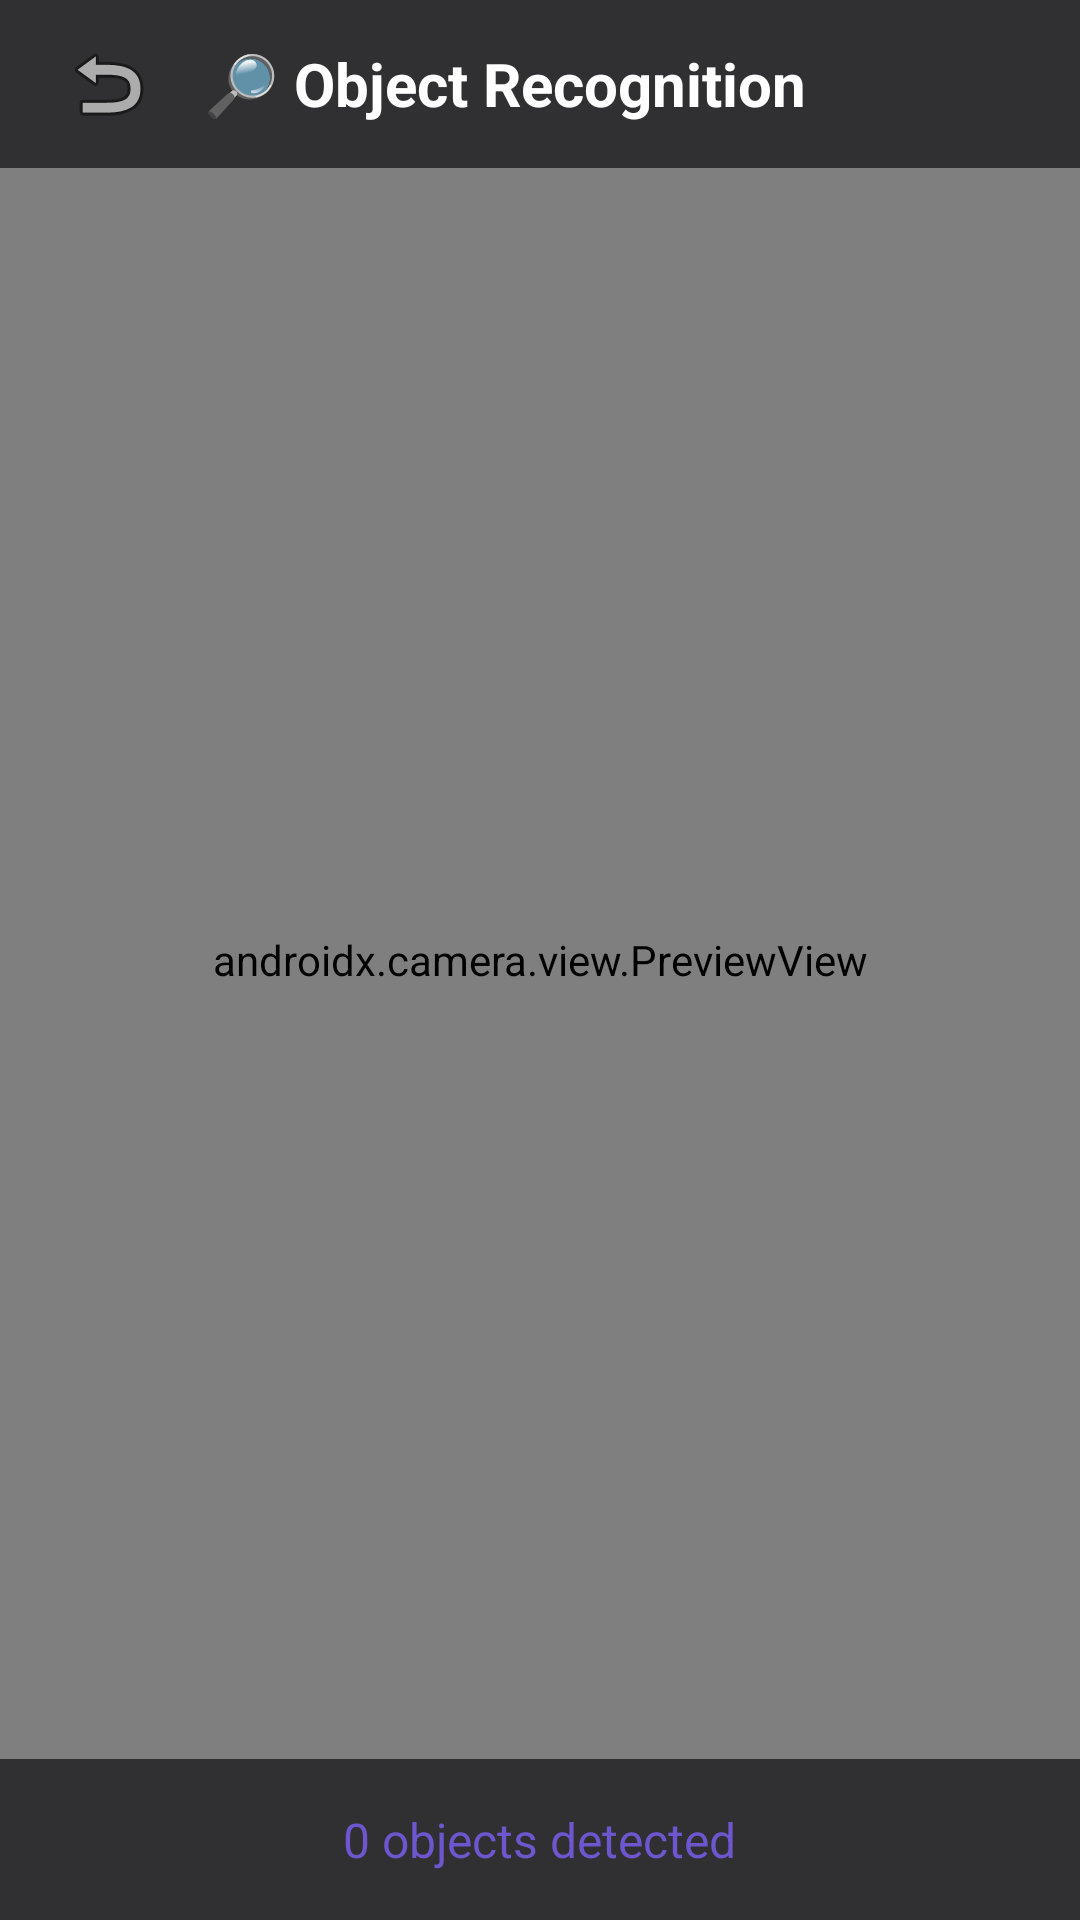

Icons on this 1080px×1920px Android screen, each with the point to tap as point (x, y):
revert: point (109, 85)
